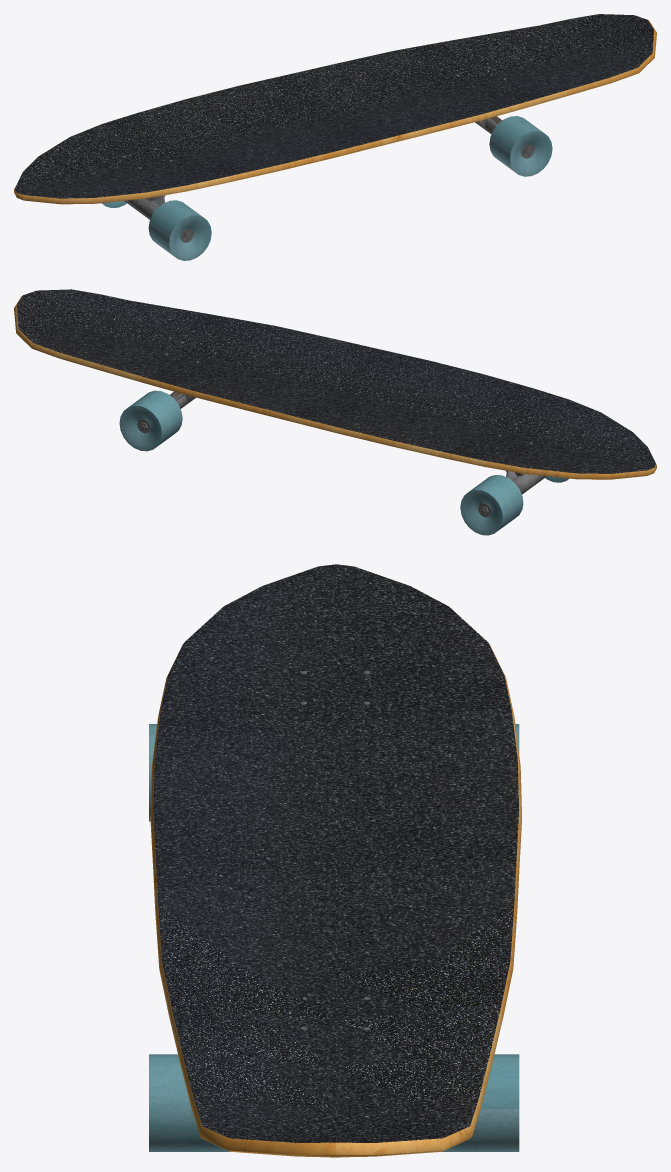
File: skateboard.glb
3 views of the same model, one above another, from view 1: azimuth 30°, elevation 25°; view 2: azimuth 150°, elevation 25°; view 3: azimuth 270°, elevation 25° (orthographic). The views are drawn at different scales.
Visible parts, largest first — view 1: pPlane1, pCylinder25, pCylinder29, pCylinder7; view 2: pPlane1, pCylinder20, pCylinder28, pCylinder7; view 3: pPlane1, pCylinder29, pCylinder28.
Part boxes in pixels (x1,y1,x2,y2): pPlane1: (14, 14, 656, 204); pCylinder25: (148, 200, 211, 260); pCylinder29: (489, 116, 552, 176); pCylinder7: (124, 198, 160, 219); pPlane1: (14, 289, 656, 479); pCylinder20: (460, 475, 523, 535); pCylinder28: (119, 390, 182, 451); pCylinder7: (512, 474, 546, 494); pPlane1: (150, 564, 521, 1157); pCylinder29: (149, 1054, 230, 1151); pCylinder28: (442, 1054, 519, 1151).
Size of the model in its own units: 0.8919 by 0.112 by 0.2273.
Materials: 3 (3 with a texture image).
